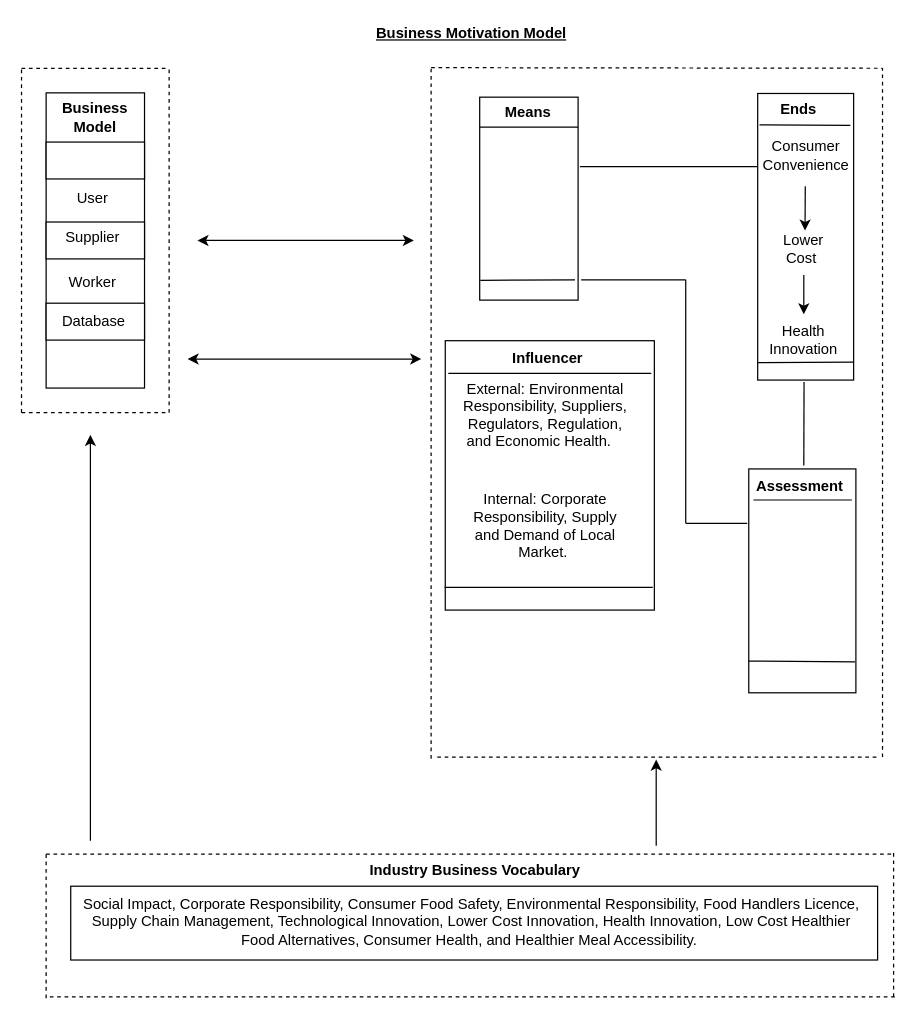
Some shapes in this 918 by 1021 pixel diagram are drawn without their labels. Here are the shapes that lost their labels. From the top down, the centre of each, then its label:
At (x=528, y=198): "Easier and cheaper way of accessing healthier food".
At (x=802, y=580): "Environmental impact, Consumer change, and increased meal delivery convenience".
